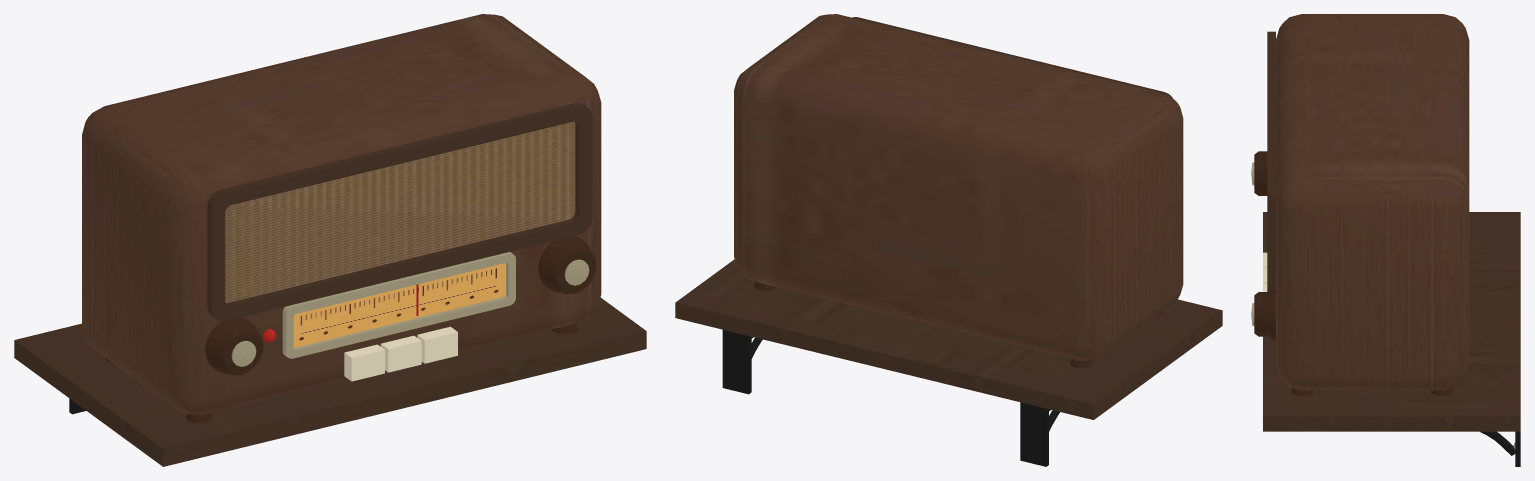
The model's file is tube-radio.glb.
3 views of the same model, side by side, from view 1: azimuth 30°, elevation 25°; view 2: azimuth 150°, elevation 25°; view 3: azimuth 270°, elevation 25° (orthographic). The views are drawn at different scales.
Parts seen in each view (by area): view 1: tube_radio_N32; view 2: tube_radio_N32; view 3: tube_radio_N32.
Part boxes in pixels (bbox=[...]): tube_radio_N32: bbox=[14, 14, 646, 466]; tube_radio_N32: bbox=[675, 14, 1222, 466]; tube_radio_N32: bbox=[1251, 14, 1520, 466].
Size of the model in its own units: 0.45 by 0.3 by 0.251.
Materials: 2 (2 with a texture image).
